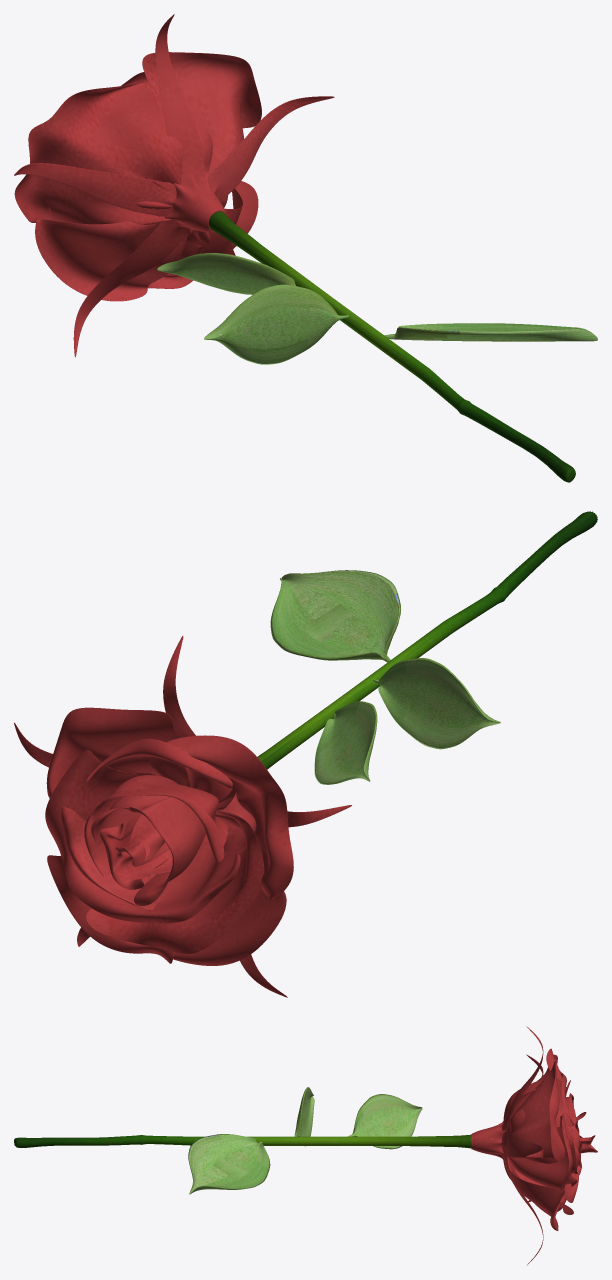
File: rose.glb
3 views of the same model, one above another, from view 1: azimuth 30°, elevation 25°; view 2: azimuth 150°, elevation 25°; view 3: azimuth 270°, elevation 25° (orthographic). The views are drawn at different scales.
Visible parts, largest first — view 1: Mesh, pCube3, pCylinder1, pCube1, pCube2; view 2: Mesh, pCube1, pCube3, pCylinder1, pCube2; view 3: Mesh, pCube1, pCylinder1, pCube2, pCube3.
Part boxes in pixels (x1,y1,x2,y2): Mesh: (14,14,334,357); pCube3: (204,284,348,364); pCylinder1: (208,211,575,482); pCube1: (384,323,597,341); pCube2: (157,253,296,294); Mesh: (14,636,351,997); pCube1: (270,570,400,662); pCube3: (373,658,500,749); pCylinder1: (257,511,597,769); pCube2: (314,701,377,784); Mesh: (471,1026,597,1264); pCube1: (188,1134,270,1194); pCylinder1: (14,1134,471,1148); pCube2: (348,1094,422,1149); pCube3: (294,1087,314,1146).
Bounding box in the file's own units: 36.25 × 33.88 × 86.16.
3 materials, 3 textured.
